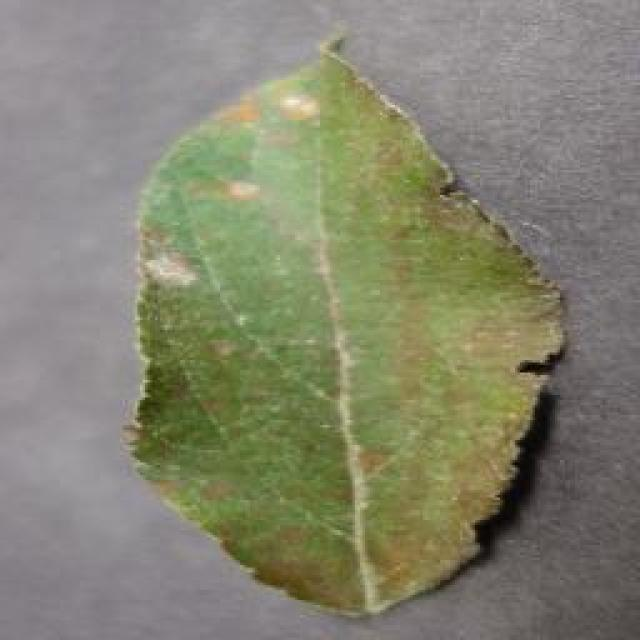Apple___Cedar_apple_rust: (116, 31, 569, 622)
